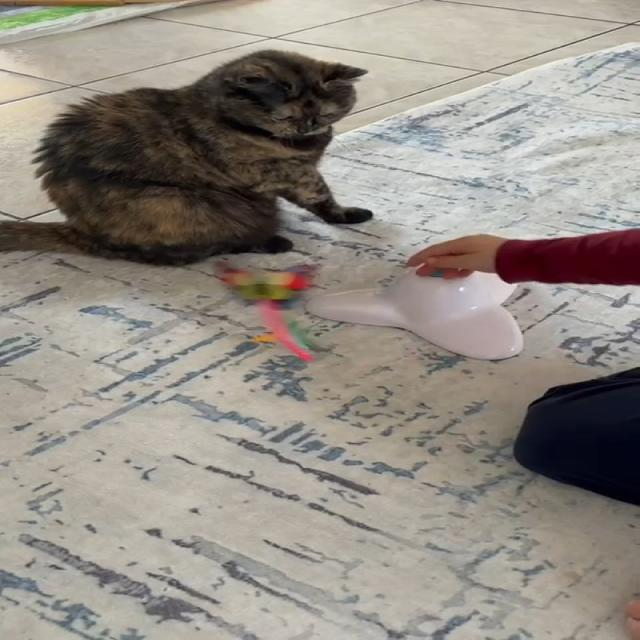authorized: (0, 48, 373, 267)
